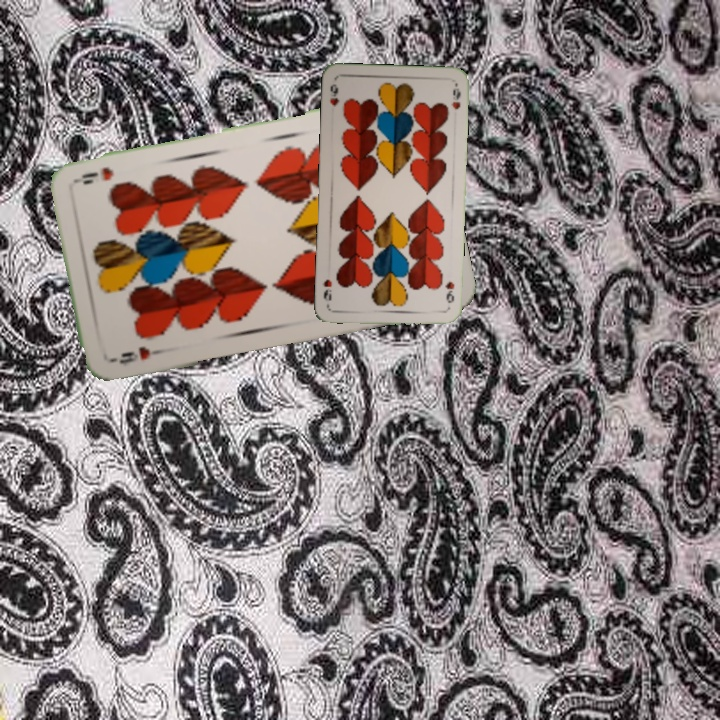H9: (108, 342, 167, 369), (326, 80, 342, 109), (441, 278, 457, 305)
